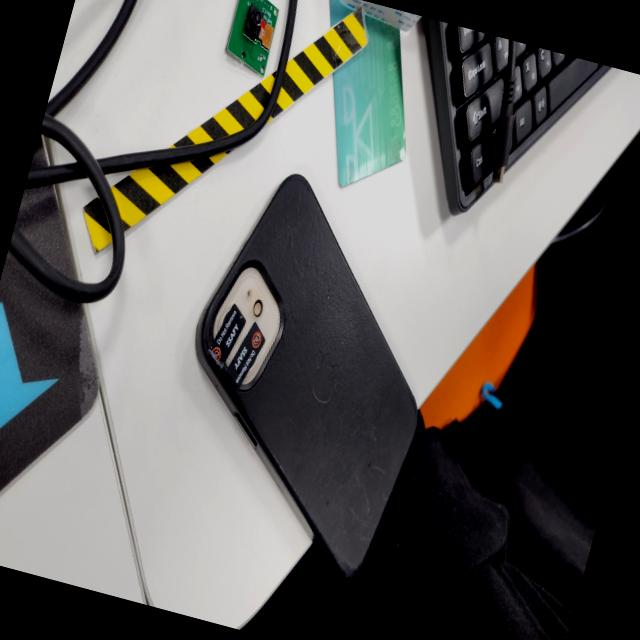phone: (144, 158, 472, 584)
sticker: (222, 318, 270, 396), (207, 300, 249, 370)
